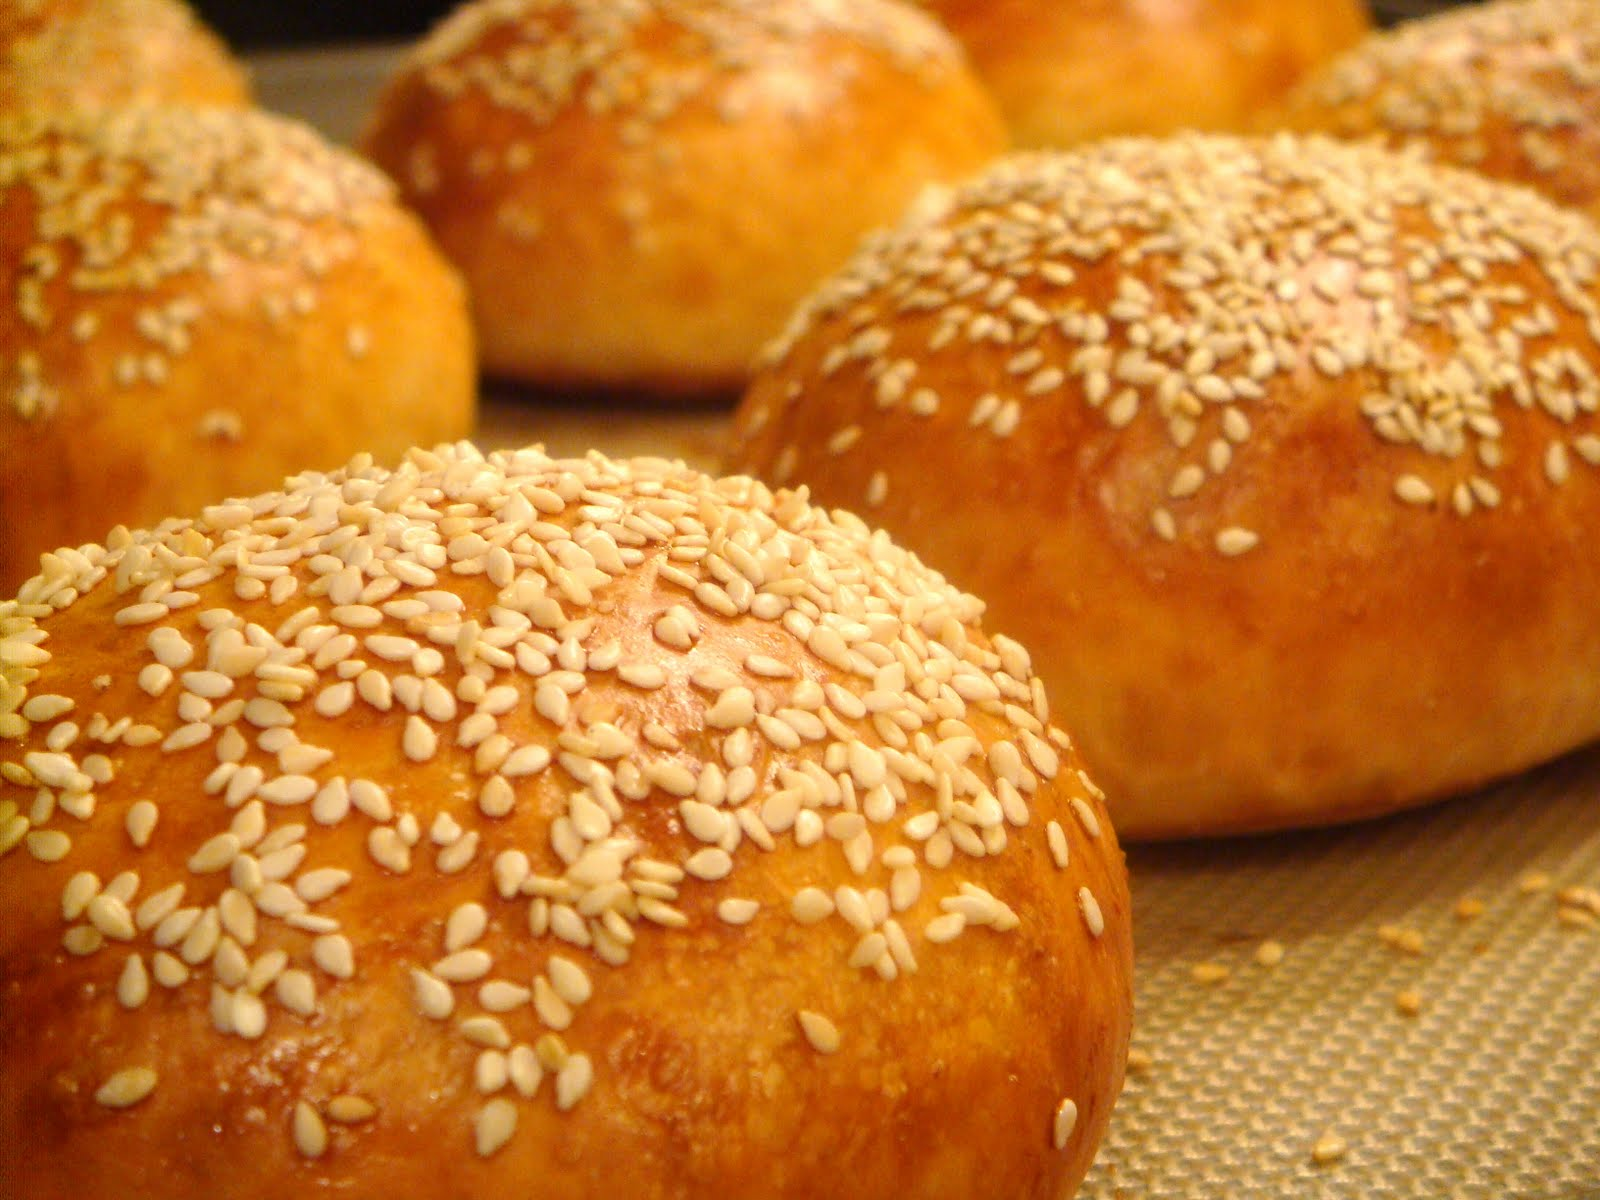hamburger_buns: (37, 412, 1207, 1200), (774, 130, 1600, 855), (1, 84, 524, 574)
